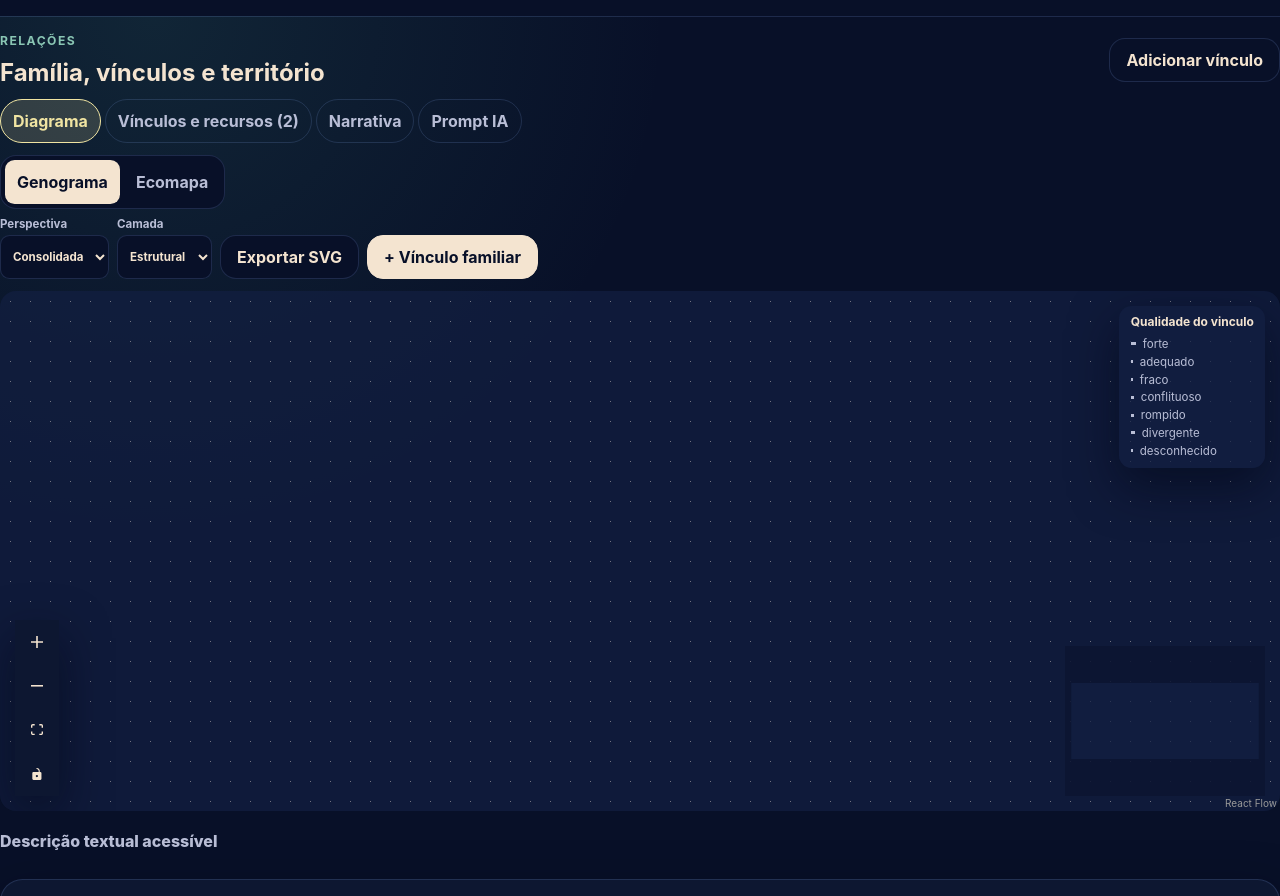
revisao de vinculos › pede confirmacao e motivo antes de excluir
The width and height of the screenshot is (1280, 896).
Click the tab "Vínculos e recursos (2)" at point(208, 121), box [105,99,312,143]
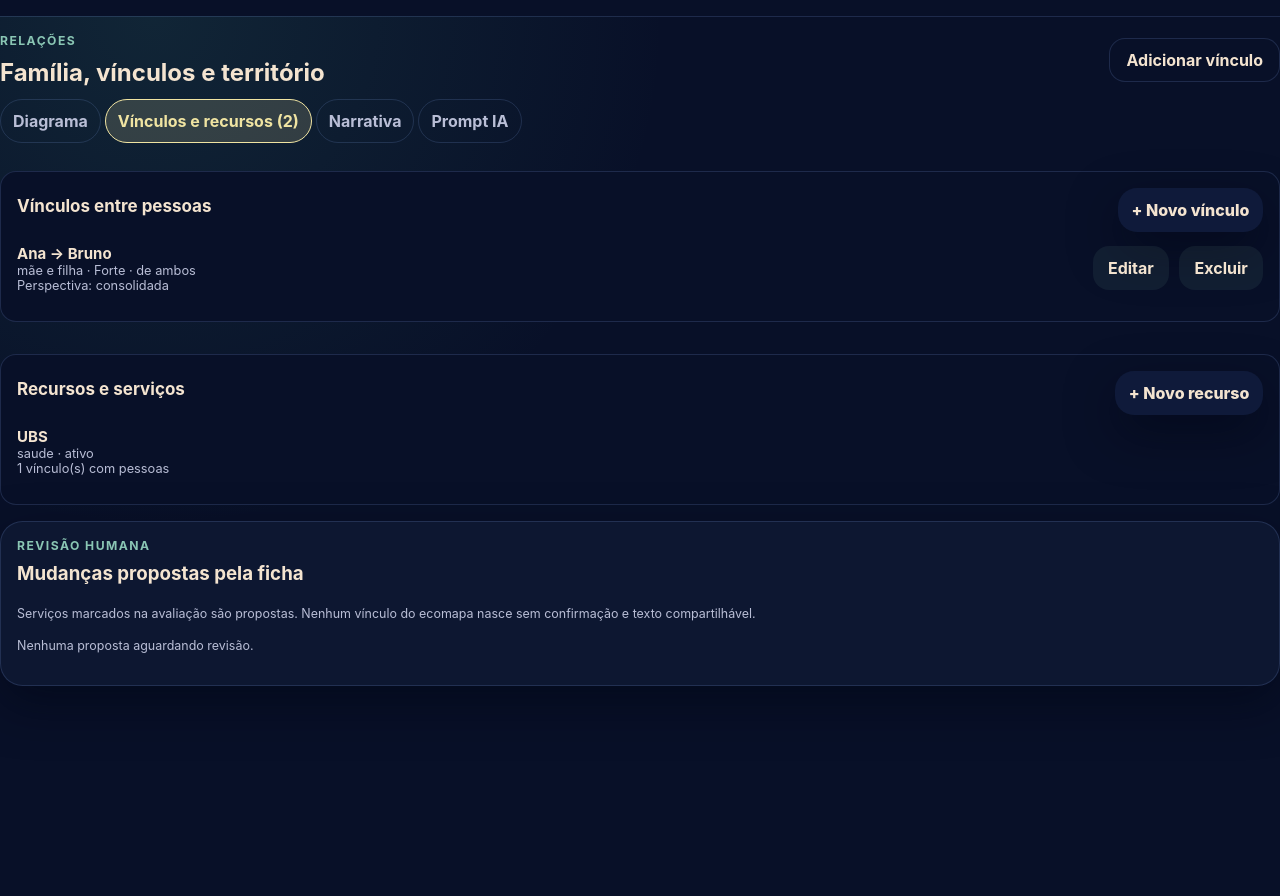
Click the button "Excluir" at point(1221, 268), box [1179,246,1263,290]
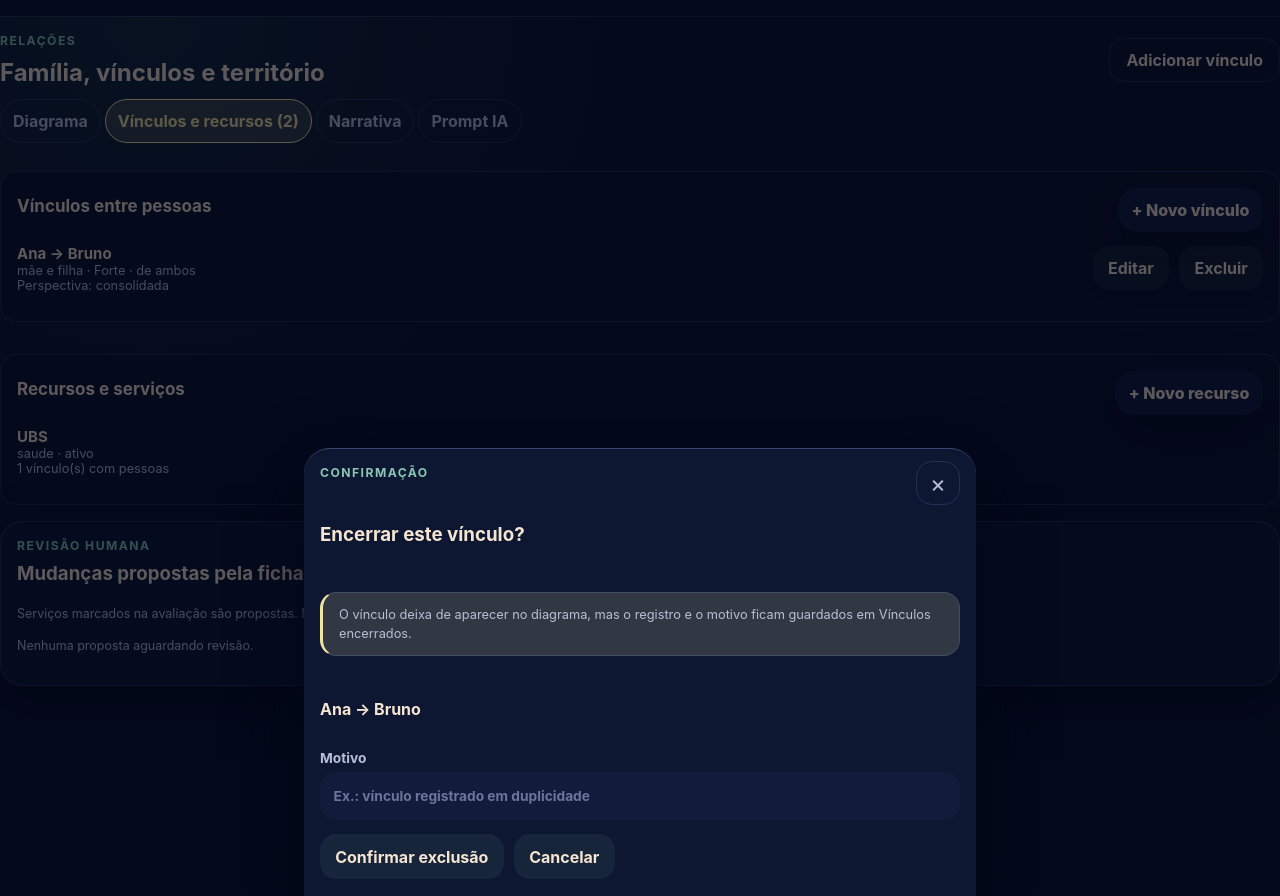
expect the text "Ana → Bruno" is shown: met, box [320,699,421,719]
expect the button "Confirmar exclusão" is shown: met, box [320,834,504,879]
